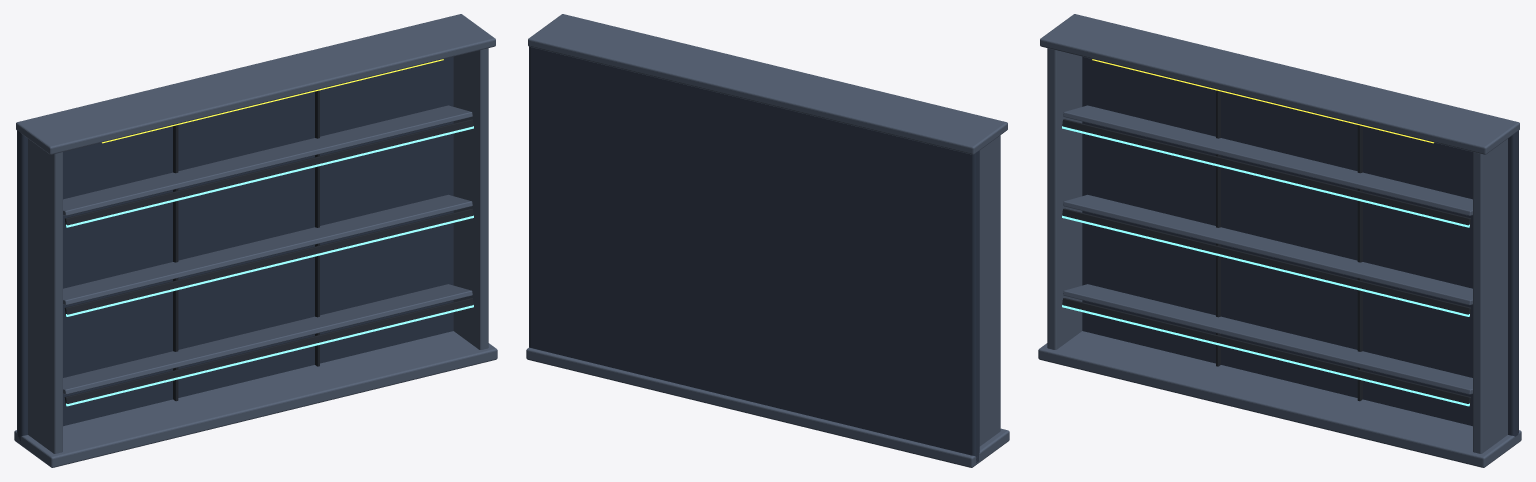
The model's file is shelf.glb.
3 views of the same model, side by side, from view 1: azimuth 30°, elevation 25°; view 2: azimuth 150°, elevation 25°; view 3: azimuth 330°, elevation 25° (orthographic).
Parts seen in each view (by area): view 1: Cube, Cube_1, Cube_3, Cube_2, Cube_4; view 2: Cube, Cube_1; view 3: Cube, Cube_1, Cube_3, Cube_2, Cube_4.
Part boxes in pixels (box(x1,y1,x2,y2)): Cube: box(17, 56, 453, 442); Cube_1: box(14, 14, 497, 467); Cube_3: box(64, 90, 473, 403); Cube_2: box(66, 126, 473, 406); Cube_4: box(102, 59, 443, 143); Cube: box(529, 46, 979, 462); Cube_1: box(526, 14, 1009, 467); Cube: box(1082, 56, 1518, 436); Cube_1: box(1038, 14, 1521, 467); Cube_3: box(1062, 90, 1471, 403); Cube_2: box(1062, 126, 1469, 406); Cube_4: box(1092, 59, 1433, 143).
Bounding box in the file's own units: 3.4 × 2.33 × 0.5.
